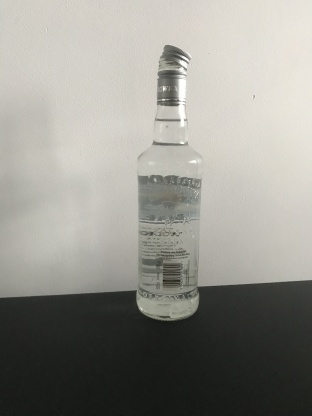nakretka: (155, 41, 192, 106)
